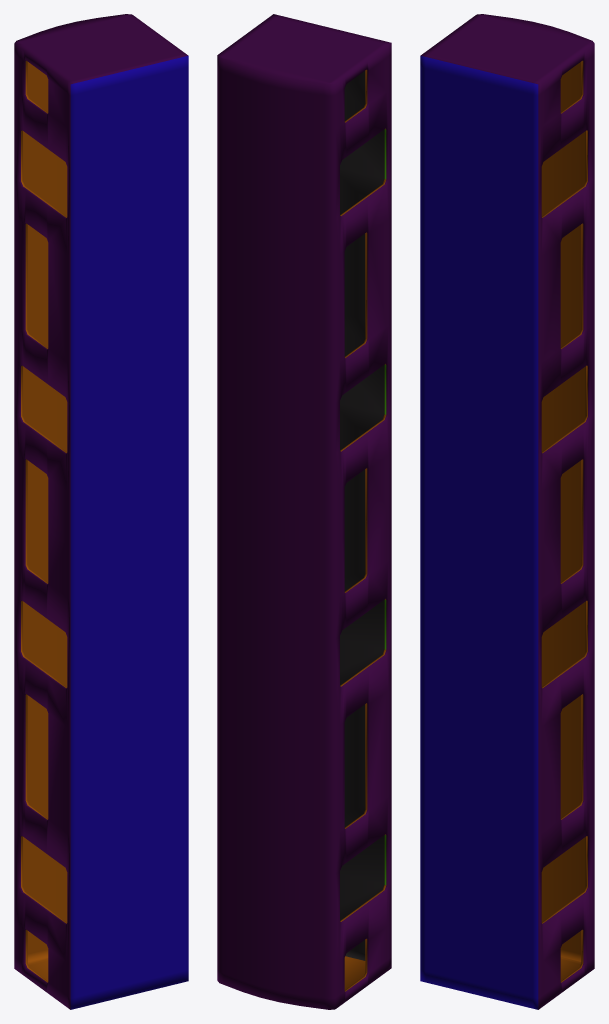
File: SubwayCart_01_B.fbx
3 renders of one model, left to right at view 1: azimuth 30°, elevation 25°; view 2: azimuth 150°, elevation 25°; view 3: azimuth 330°, elevation 25°, orthographic.
Parts seen in each view (by area): view 1: SubwayCart_01_B_low; view 2: SubwayCart_01_B_low; view 3: SubwayCart_01_B_low.
Boxes of the visible parts, bbox=[...] form: SubwayCart_01_B_low: bbox=[14, 14, 188, 1009]; SubwayCart_01_B_low: bbox=[217, 14, 391, 1009]; SubwayCart_01_B_low: bbox=[420, 14, 594, 1009].
Size of the model in its own units: 3.1 by 23.25 by 2.86.
